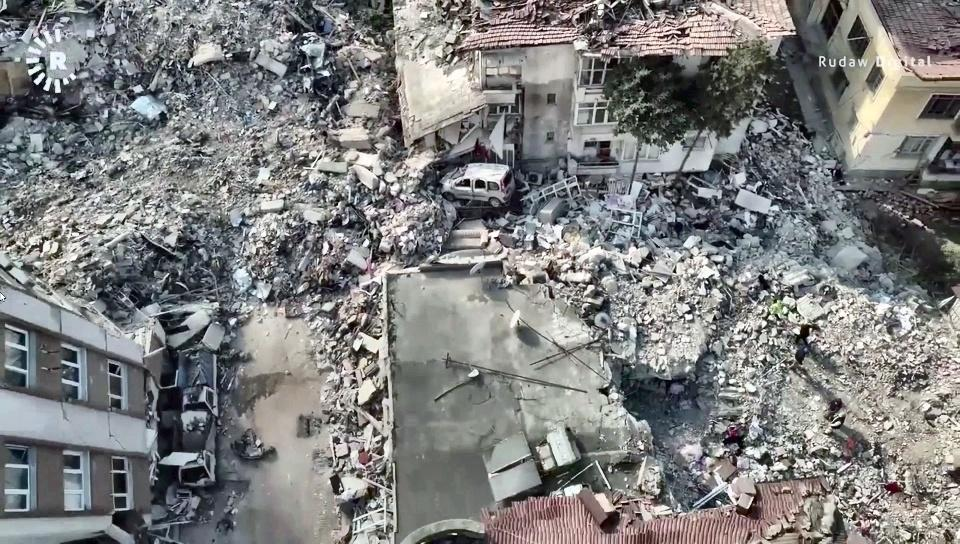kapali: (210, 0, 390, 410)
